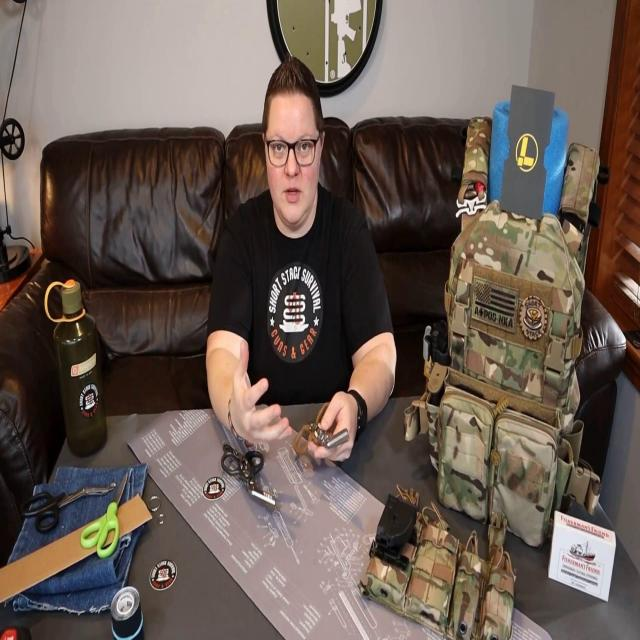scissor: (21, 482, 116, 532), (80, 473, 128, 556), (220, 443, 276, 506), (294, 401, 350, 454)
